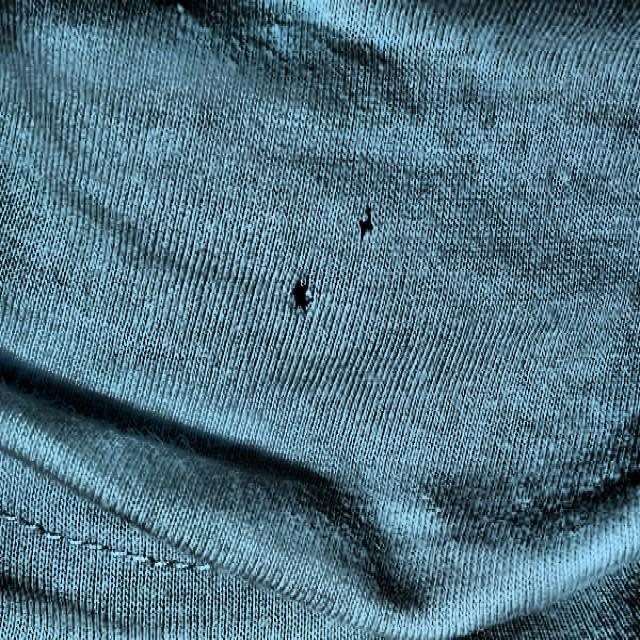Hole: (288, 272, 315, 313), (352, 206, 380, 244)
